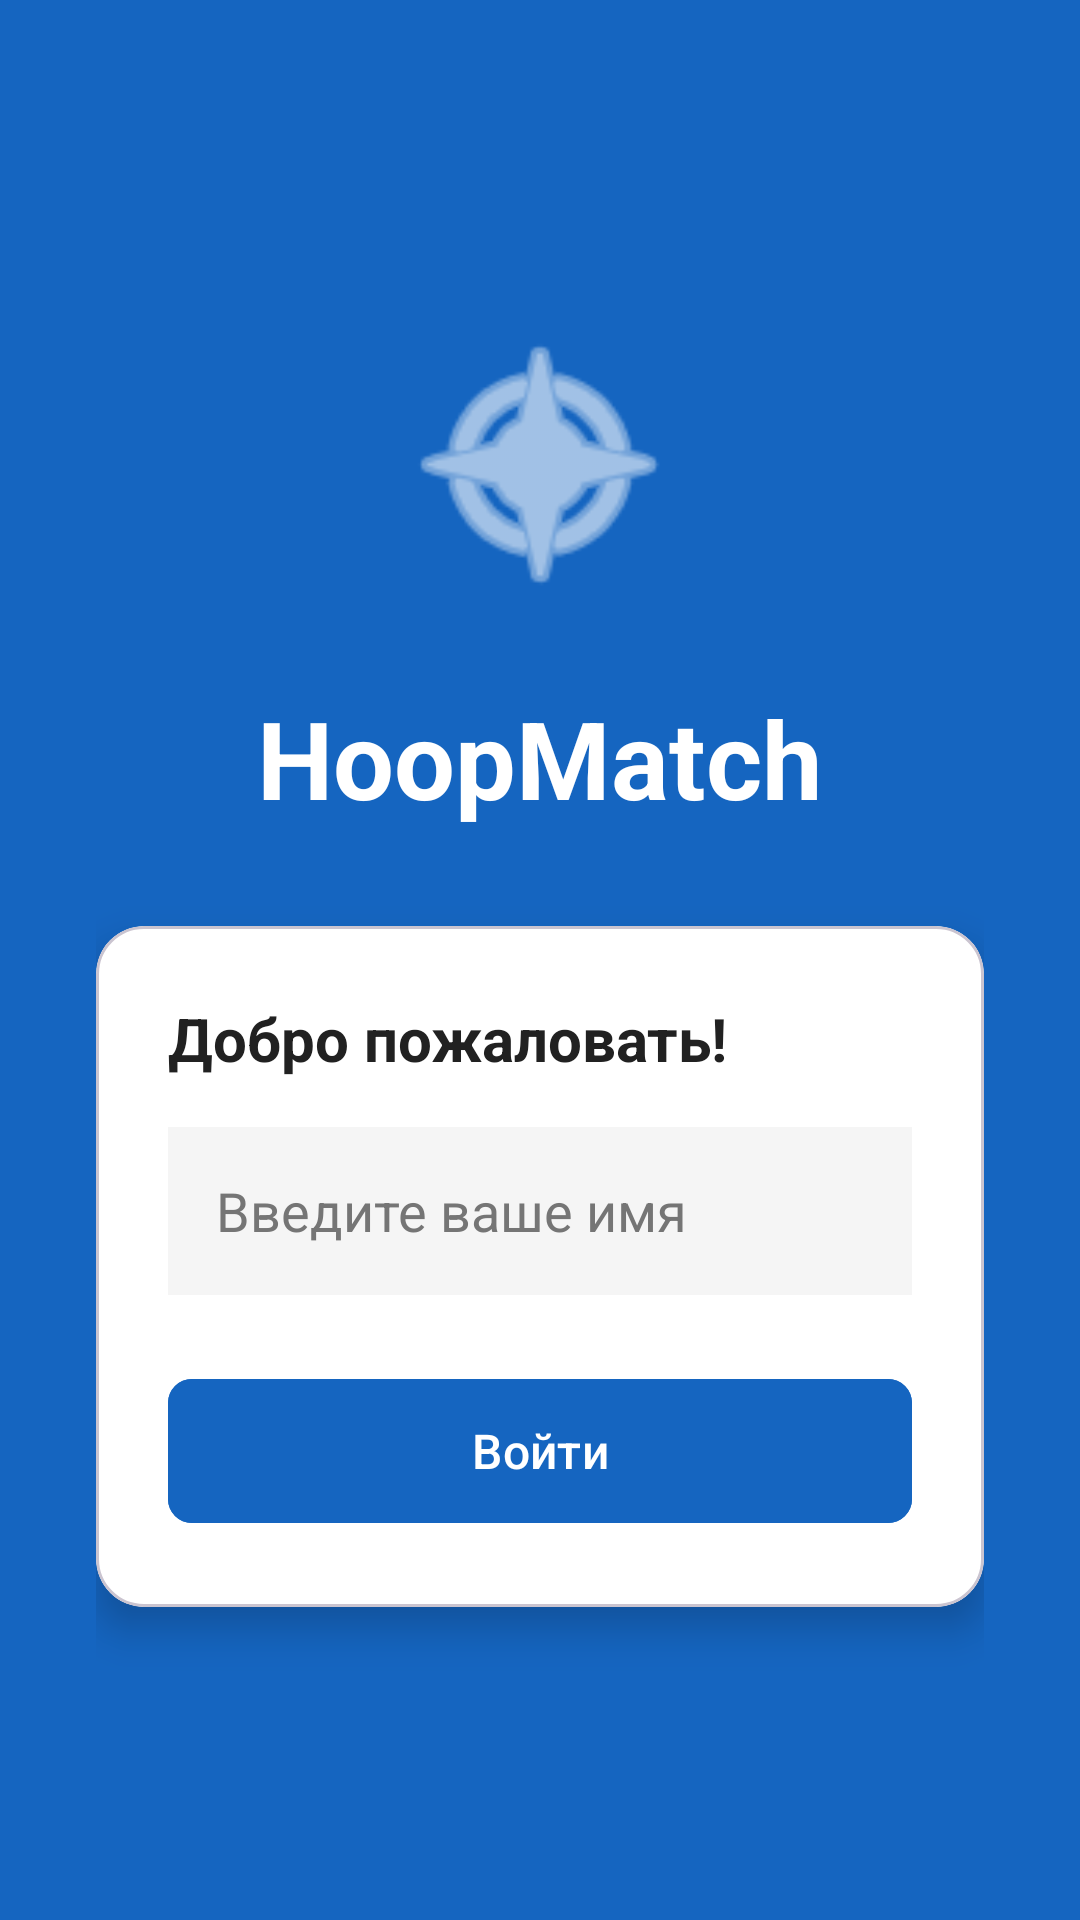

Where to tap for icons on this 1080w x 1920h app screen, as (x,y):
compass: (539,464)
